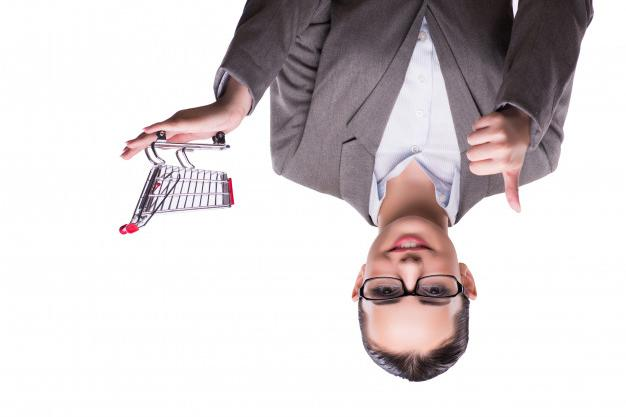thumbsdown: (466, 112, 522, 214)
